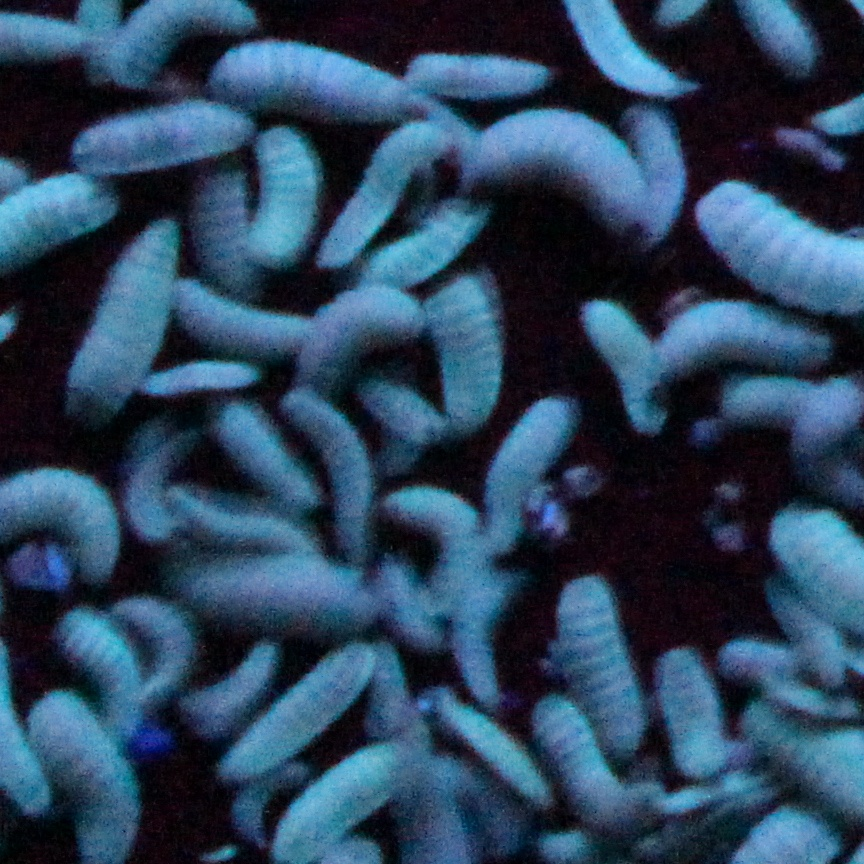larve: (55, 215, 181, 430), (463, 106, 651, 240), (208, 640, 378, 779), (25, 688, 144, 864), (157, 552, 385, 641), (320, 119, 454, 269), (208, 41, 438, 126), (271, 739, 424, 864), (532, 694, 662, 839), (70, 98, 273, 186), (360, 173, 501, 294), (555, 574, 645, 760), (410, 264, 506, 438), (481, 393, 581, 559), (283, 388, 371, 571), (431, 681, 554, 810), (166, 474, 331, 568), (382, 478, 487, 624), (652, 300, 833, 381), (297, 284, 430, 393), (206, 395, 320, 515), (164, 274, 321, 360), (54, 609, 147, 746), (580, 293, 668, 436), (656, 644, 747, 781), (243, 123, 324, 274), (170, 635, 284, 739), (763, 564, 853, 688), (722, 372, 864, 442), (615, 110, 688, 241), (402, 40, 552, 103), (194, 163, 258, 301), (116, 420, 187, 543), (374, 552, 461, 651), (121, 595, 197, 701), (737, 808, 843, 864), (451, 611, 508, 712), (360, 633, 417, 733), (142, 358, 265, 401), (367, 378, 450, 441), (724, 635, 814, 684)
